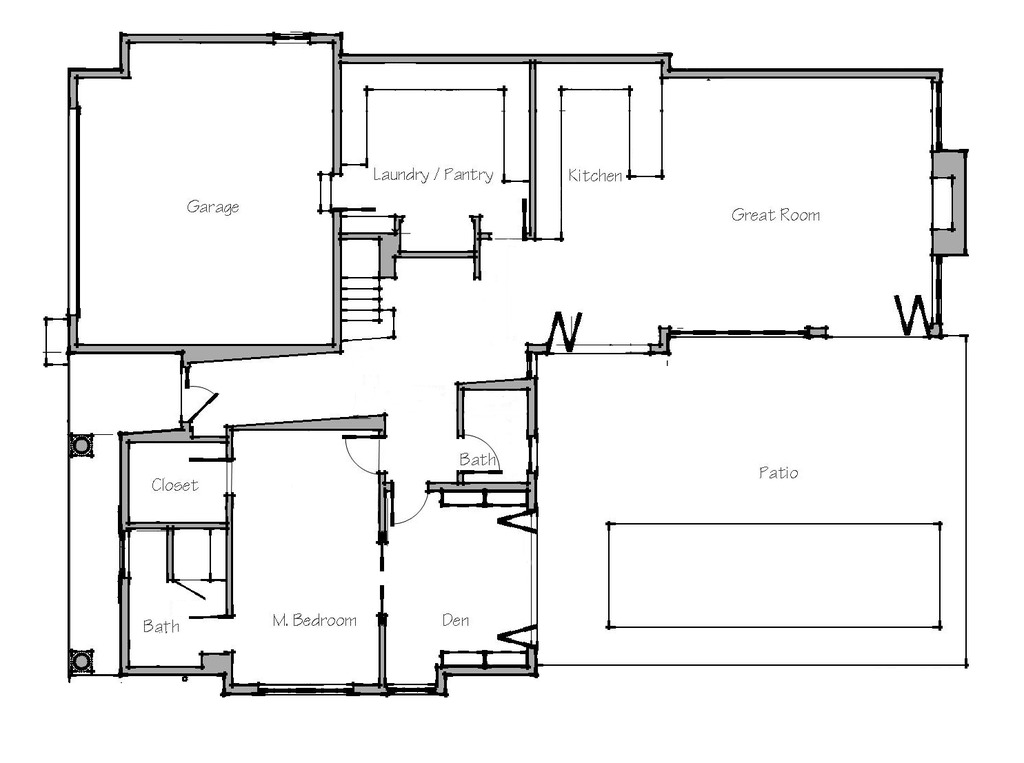door: (452, 432, 502, 476), (341, 431, 381, 478), (393, 481, 430, 529), (183, 382, 217, 423)
stairs: (336, 230, 390, 334)
windows: (257, 680, 357, 697)
